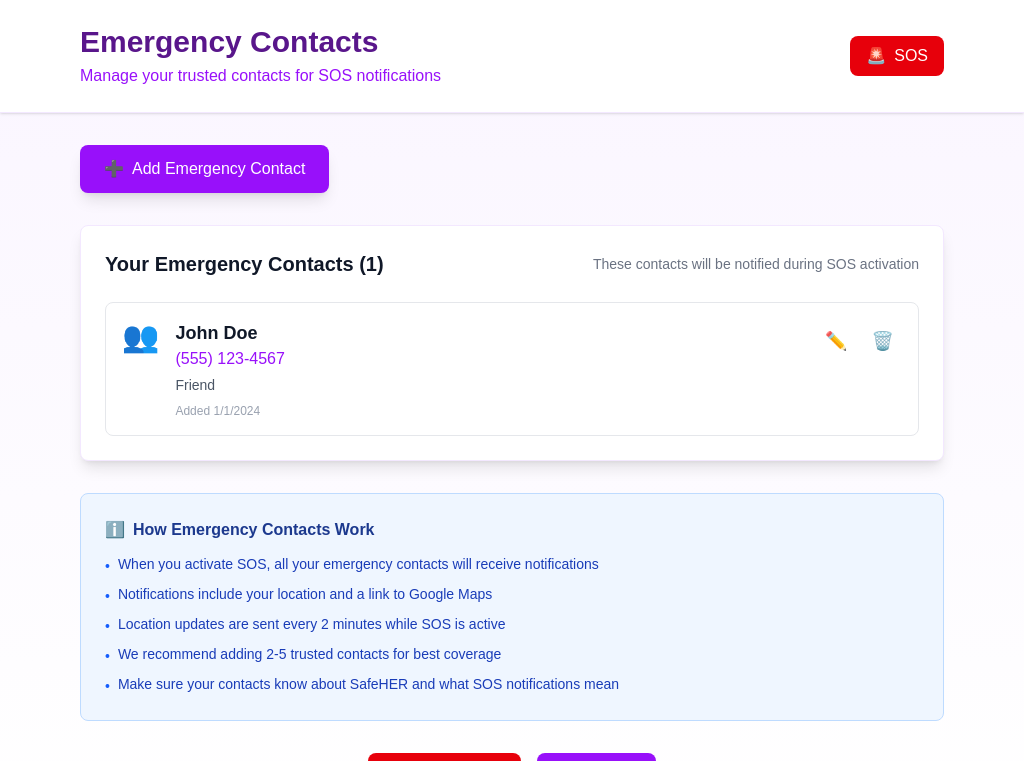
Test: Emergency Contacts Page › should show edit form when edit button is clicked
This screenshot has width=1024, height=761.
Click the button titled "Edit contact".
click(836, 341)  # box [817,319,856,363]
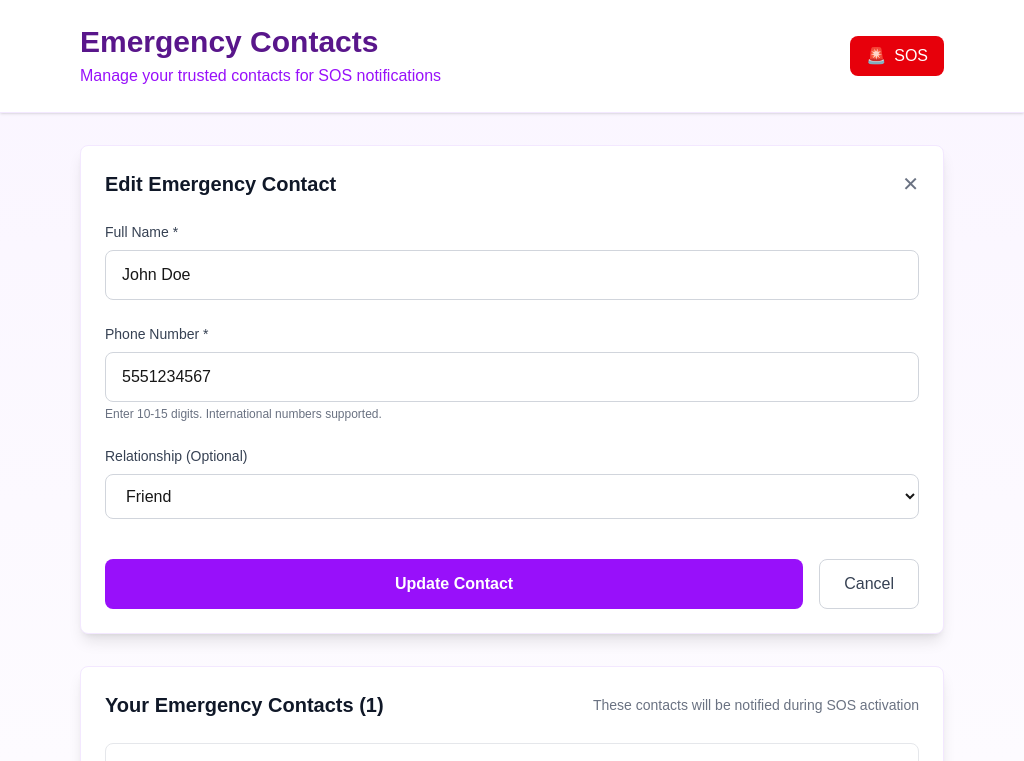
Expected: the heading "Edit Emergency Contact" is shown, [105,170,336,198]
Expected: the field showing "John Doe" is shown, [105,250,919,300]
Expected: the field showing "5551234567" is shown, [105,352,919,402]
